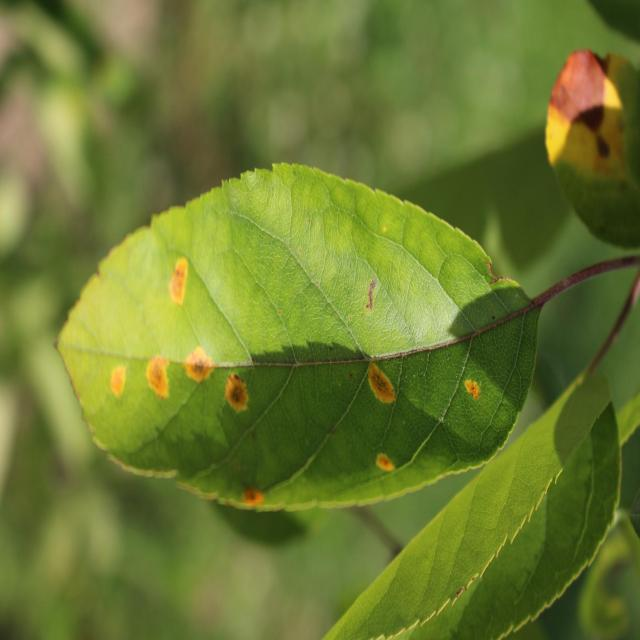Rust: (539, 31, 640, 201), (361, 353, 398, 412), (222, 361, 250, 427), (144, 350, 174, 405), (185, 344, 218, 388), (166, 257, 192, 306), (373, 447, 401, 484), (241, 476, 264, 516), (463, 374, 484, 406), (110, 364, 127, 402)
